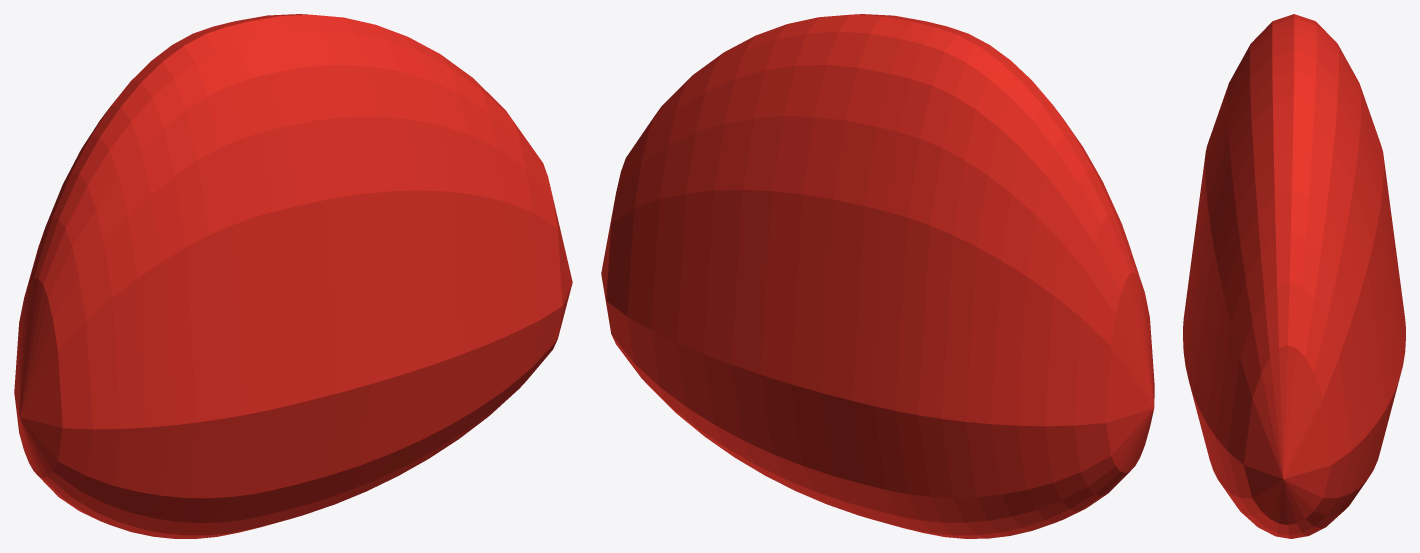
Rendered from fish.gltf.
The picture shows the model from 3 angles, left to right: view 1: azimuth 30°, elevation 25°; view 2: azimuth 150°, elevation 25°; view 3: azimuth 270°, elevation 25°; orthographic projection. The views are drawn at different scales.
Visible parts, largest first — view 1: wave; view 2: wave; view 3: wave.
Part boxes in pixels (left/top/right/bottom): wave: left=14, top=14, right=572, bottom=538; wave: left=601, top=14, right=1154, bottom=538; wave: left=1183, top=14, right=1405, bottom=538.
Size of the model in its own units: 26 by 22.5 by 10.
